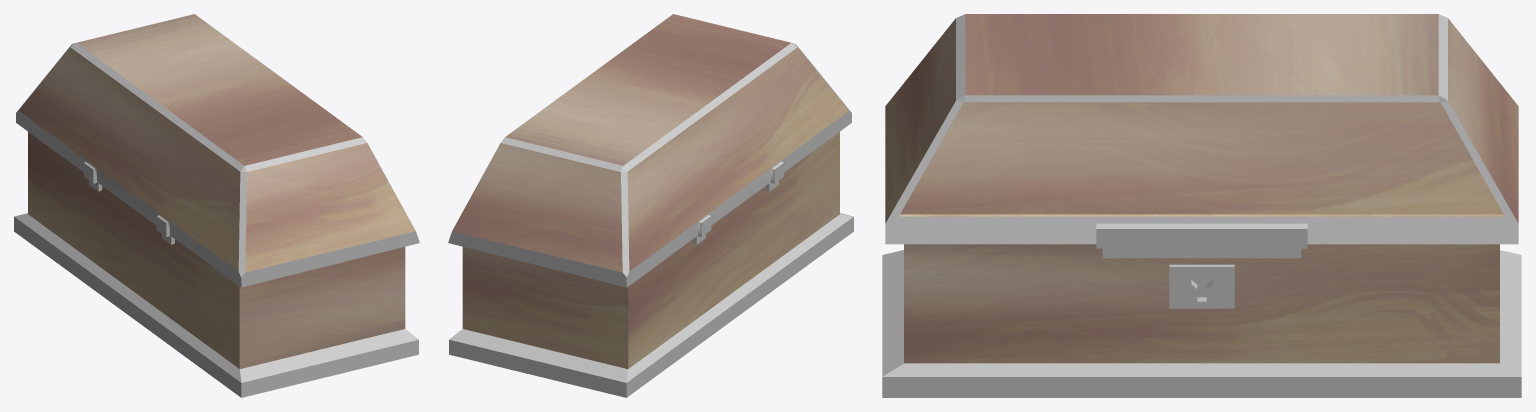
The model's file is Chest.fbx.
The picture shows the model from 3 angles, left to right: view 1: azimuth 30°, elevation 25°; view 2: azimuth 150°, elevation 25°; view 3: azimuth 270°, elevation 25°; orthographic projection. The views are drawn at different scales.
Visible parts, largest first — view 1: Cube; view 2: Cube; view 3: Cube.
Part boxes in pixels (x1,y1,x2,y2): Cube: (14, 14, 419, 397); Cube: (448, 14, 853, 397); Cube: (882, 14, 1521, 397).
Bounding box in the file's own units: 221 × 234 × 476.
